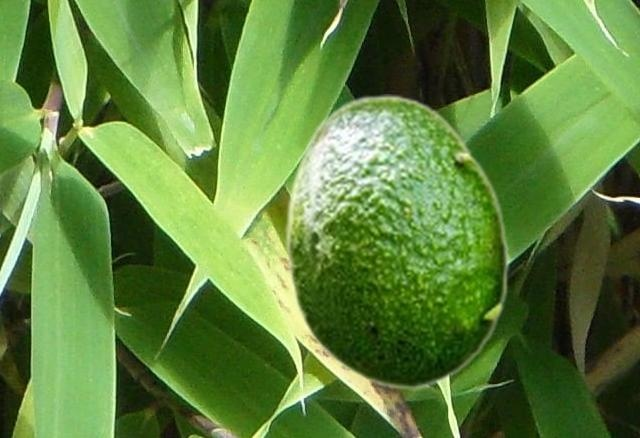avocado: (283, 94, 509, 389)
